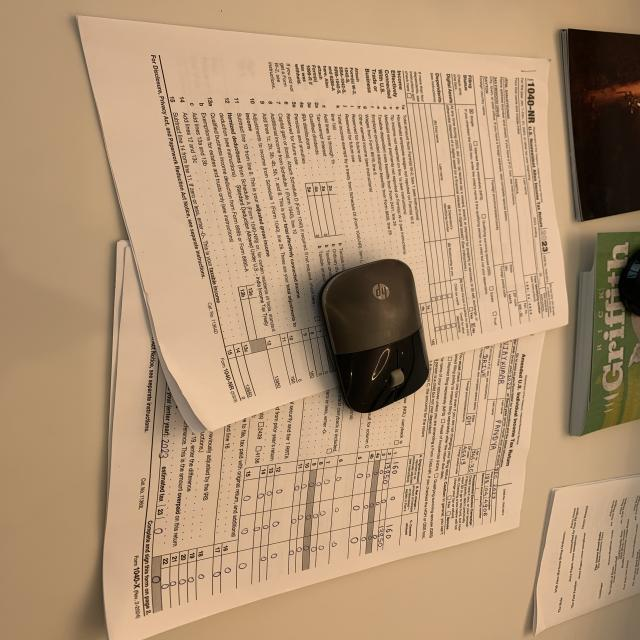Mouse: (308, 257, 442, 417)
